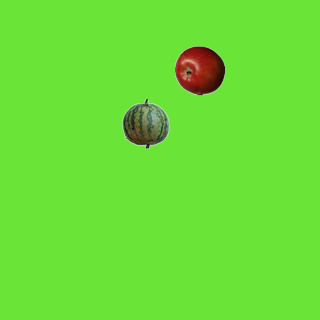Apple Braeburn: (174, 45, 224, 95)
Watermelon: (120, 98, 170, 148)
